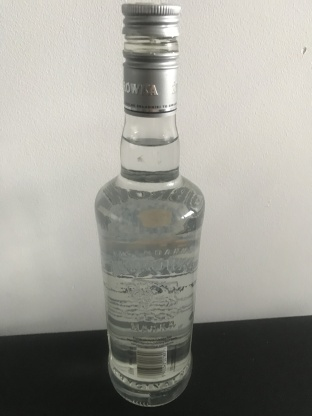nakretka: (120, 0, 183, 118)
